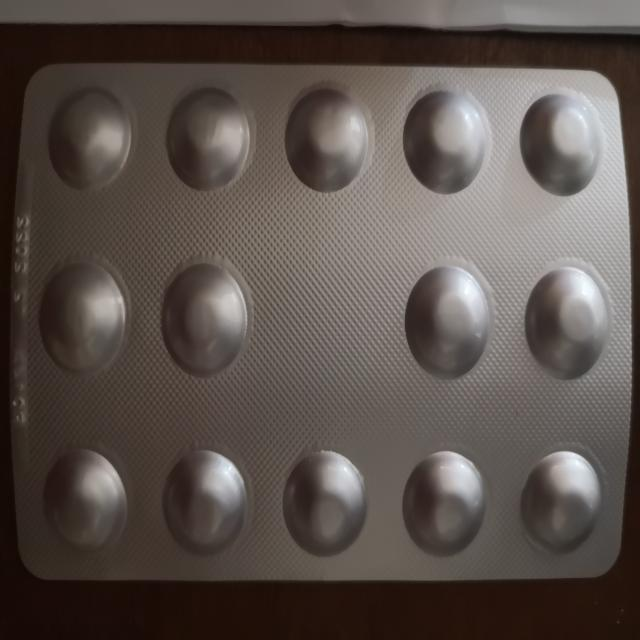Pill: (154, 254, 252, 384), (402, 257, 497, 381), (278, 440, 373, 561), (36, 258, 132, 377), (40, 443, 132, 563), (156, 443, 252, 558), (523, 263, 614, 382), (398, 446, 492, 561), (280, 79, 372, 195), (44, 82, 136, 196), (402, 79, 489, 199), (518, 439, 606, 556), (160, 86, 255, 193), (515, 86, 601, 200)
